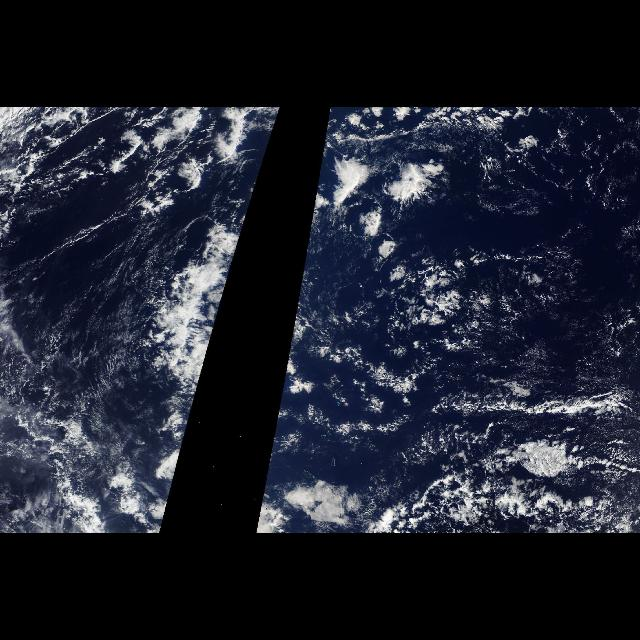Flower: (292, 107, 544, 325), (112, 107, 280, 325)
Gravel: (4, 283, 166, 482)
